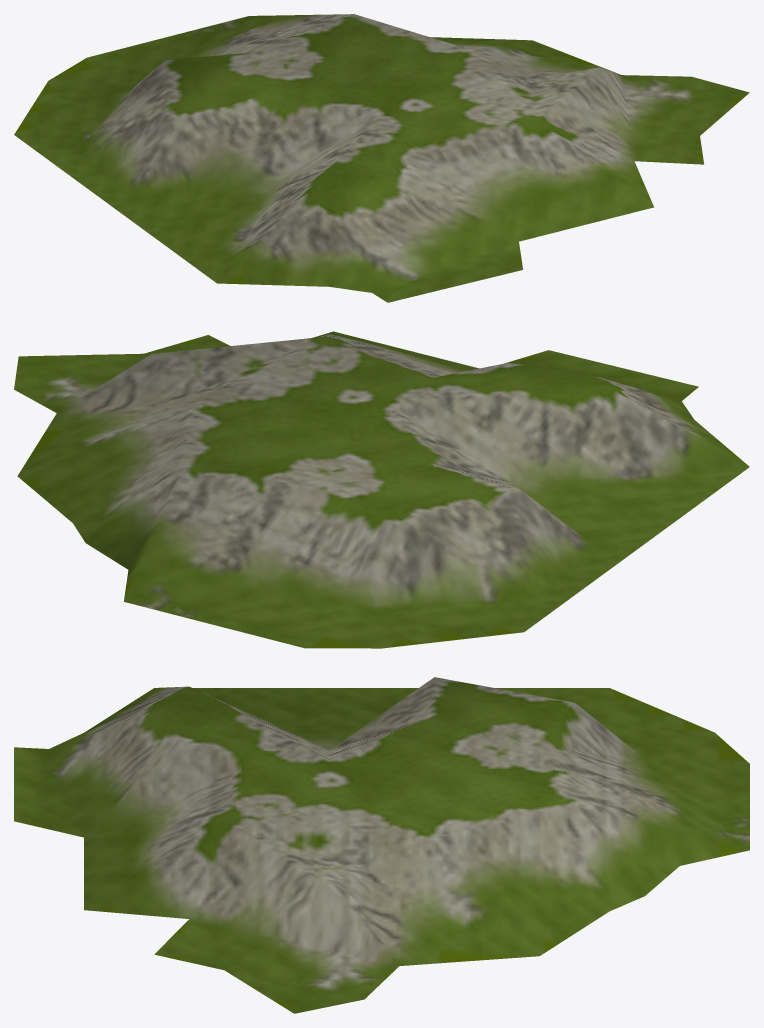
Rendered from Terrain_23.fbx.
3 renders of one model, top to bottom at view 1: azimuth 30°, elevation 25°; view 2: azimuth 150°, elevation 25°; view 3: azimuth 270°, elevation 25°, orthographic. The views are drawn at different scales.
Visible parts, largest first — view 1: Terrain_23; view 2: Terrain_23; view 3: Terrain_23.
Part boxes in pixels (left/top/right/bottom): Terrain_23: left=14, top=14, right=749, bottom=302; Terrain_23: left=14, top=331, right=749, bottom=648; Terrain_23: left=14, top=677, right=749, bottom=1013.
Bounding box in the file's own units: 44.9 × 4.01 × 42.86.
